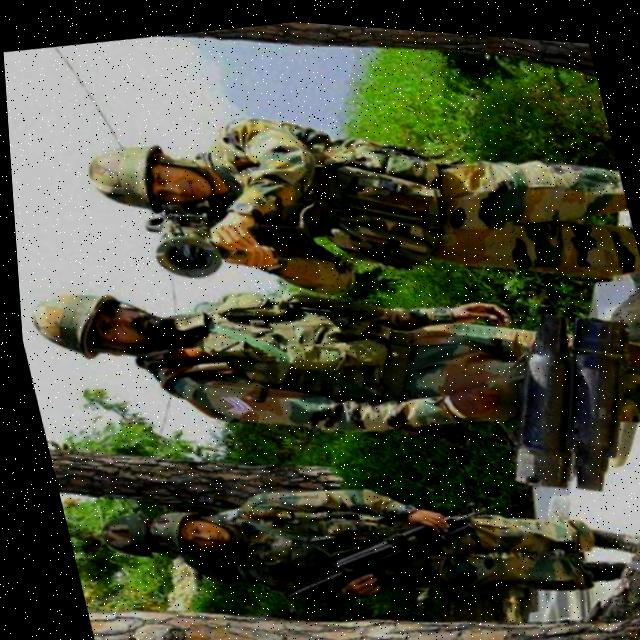rocket: (458, 275, 640, 509)
